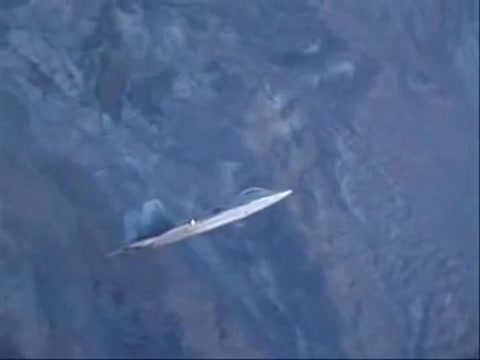aeroplane: (107, 186, 300, 260)
